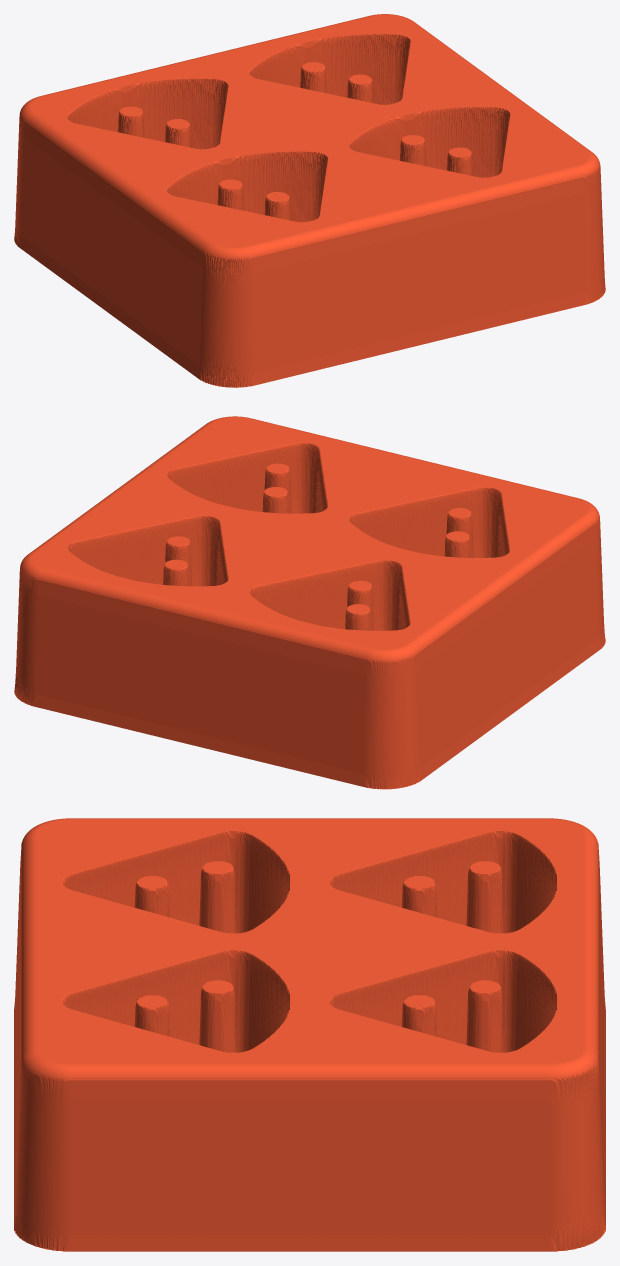
Rendered from mold.glb.
3 renders of one model, top to bottom at view 1: azimuth 30°, elevation 25°; view 2: azimuth 150°, elevation 25°; view 3: azimuth 270°, elevation 25°, orthographic. The views are drawn at different scales.
Parts seen in each view (by area): view 1: geometry_0; view 2: geometry_0; view 3: geometry_0.
Boxes of the visible parts, <box> form: geometry_0: <box>14,14,605,387</box>; geometry_0: <box>14,416,605,789</box>; geometry_0: <box>14,818,605,1251</box>.
Bounding box in the file's own units: 0.0992 × 0.0314 × 0.0944.
